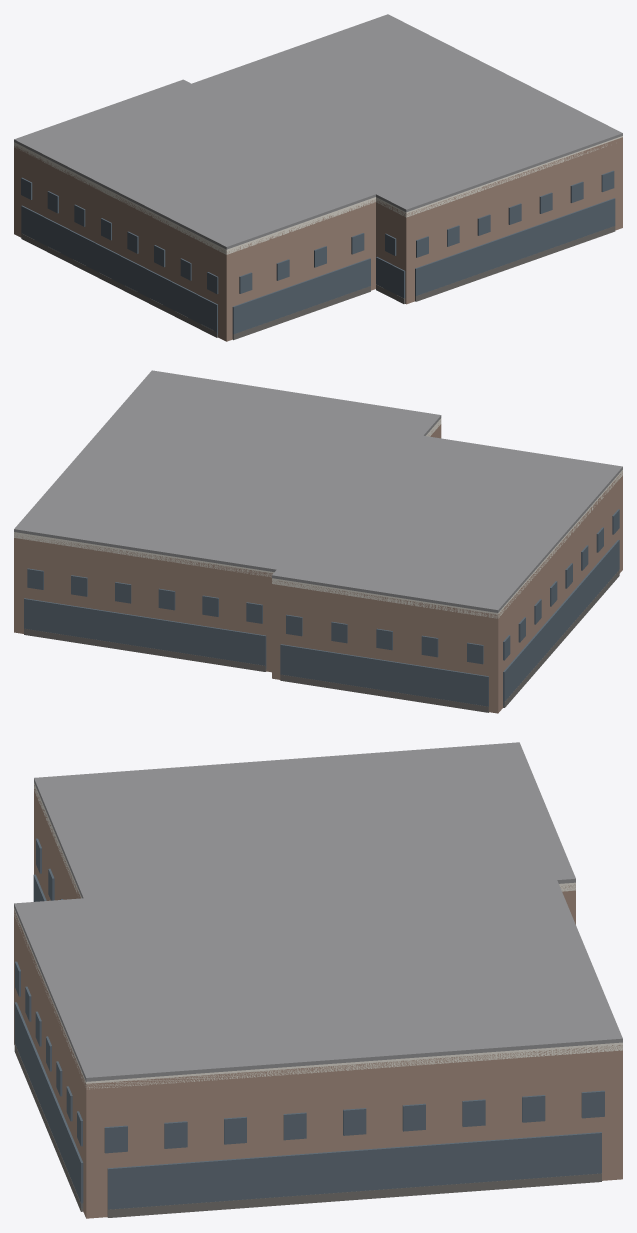
File: s57_gis_248223_820929.glb
3 views of the same model, one above another, from view 1: azimuth 30°, elevation 25°; view 2: azimuth 150°, elevation 25°; view 3: azimuth 270°, elevation 25° (orthographic). The views are drawn at different scales.
Parts seen in each view (by area): view 1: roofcap, mass, store_5, store_2, store_3, cornice, bulk_5, bulk_2, bulk_3, store_4; view 2: roofcap, mass, store_7, store_1, cornice, store_2, bulk_7, bulk_1, bulk_2; view 3: roofcap, mass, store_6, cornice, bulk_6, store_5, bulk_5, win_6_0_1, win_6_0_4, win_6_0_3, win_6_0_7, win_6_0_8 (+3 smaller).
Part boxes in pixels (left/top/right/bottom): roofcap: left=14, top=14, right=622, bottom=249; mass: left=14, top=137, right=622, bottom=341; store_5: left=415, top=198, right=615, bottom=295; store_2: left=21, top=205, right=217, bottom=335; store_3: left=232, top=258, right=370, bottom=335; cornice: left=14, top=136, right=622, bottom=254; bulk_5: left=415, top=226, right=615, bottom=301; bulk_2: left=21, top=233, right=217, bottom=337; bulk_3: left=232, top=286, right=370, bottom=340; store_4: left=376, top=257, right=405, bottom=298; roofcap: left=14, top=370, right=622, bottom=612; mass: left=14, top=424, right=622, bottom=713; store_7: left=24, top=598, right=266, bottom=668; store_1: left=280, top=644, right=488, bottom=706; cornice: left=14, top=418, right=622, bottom=618; store_2: left=503, top=540, right=619, bottom=705; bulk_7: left=24, top=628, right=266, bottom=671; bulk_1: left=280, top=674, right=488, bottom=712; bulk_2: left=503, top=570, right=619, bottom=707; roofcap: left=14, top=742, right=622, bottom=1081; mass: left=14, top=785, right=622, bottom=1218; store_6: left=107, top=1132, right=601, bottom=1212; cornice: left=14, top=782, right=622, bottom=1089; bulk_6: left=107, top=1173, right=601, bottom=1217; store_5: left=14, top=1002, right=83, bottom=1207; bulk_5: left=14, top=1043, right=83, bottom=1211; win_6_0_1: left=164, top=1121, right=187, bottom=1148; win_6_0_4: left=343, top=1108, right=366, bottom=1135; win_6_0_3: left=283, top=1112, right=306, bottom=1140; win_6_0_7: left=522, top=1095, right=545, bottom=1122; win_6_0_8: left=581, top=1090, right=604, bottom=1118.
Bounding box in the file's own units: 42.72 × 8.35 × 32.75.
